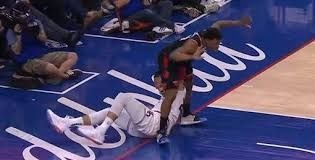falling: (39, 64, 181, 145)
